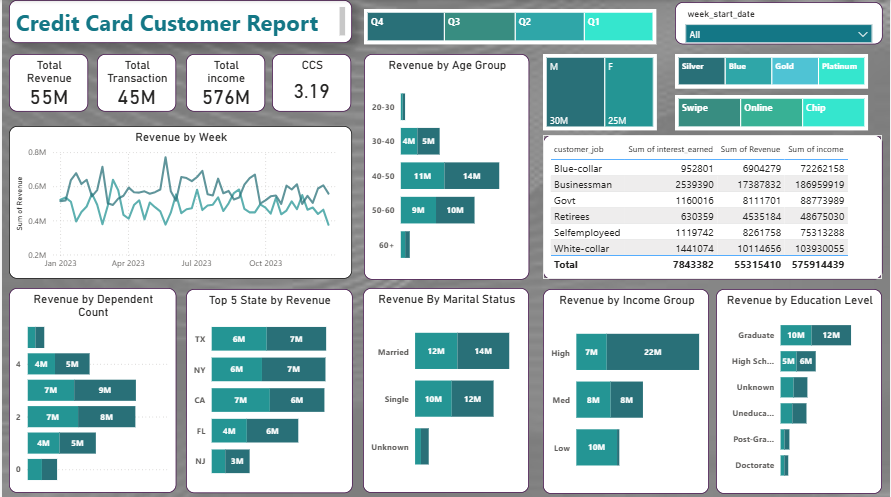

The dashboard page shown, as its layout file describes it:
{"tool":"powerbi","page":{"name":"CC_report","canvas":[1280,720],"ordinal":2},"visuals":[{"type":"textbox","box":[9.6,0,494.1,61.9],"z":0},{"type":"barChart","title":" Revenue by Dependent Count","fields":{"Y":["Sum(public credit_card_data2.Revenue)"],"Category":["public customers.dependent_count"],"Series":["public customers.gender"]},"box":[9.6,414.3,240.9,294.5],"z":1000},{"type":"tableEx","fields":{"Values":["public customers.customer_job","Sum(public credit_card_data2.interest_earned)","Sum(public credit_card_data2.Revenue)","Sum(public customers.income)"]},"box":[779,194.1,488.6,207.8],"z":2000},{"type":"card","title":"Total Revenue","fields":{"Values":["Sum(public credit_card_data2.Revenue)"]},"box":[9.6,77.1,114.2,82.6],"z":3000},{"type":"card","title":"Total Transaction","fields":{"Values":["Sum(public credit_card_data2.total_trans_amt)"]},"box":[136.3,77.1,114.2,82.6],"z":4000},{"type":"card","title":" Total income","fields":{"Values":["Sum(public customers.income)"]},"box":[264.3,77.1,114.2,82.6],"z":5000},{"type":"card","title":"CCS","fields":{"Values":["Avg(public customers.cust_satisfaction_score)"]},"box":[389.5,77.1,114.2,82.6],"z":6000},{"type":"slicer","fields":{"Values":["public credit_card_data2.week_start_date"]},"box":[968.9,2.8,298.7,60.6],"z":7000},{"type":"lineChart","title":" Revenue by Week","fields":{"Y":["Sum(public credit_card_data2.Revenue)"],"Series":["public customers.gender"],"Category":["public credit_card_data2.week_start_date.Variation.Date Hierarchy.Year","public credit_card_data2.week_start_date.Variation.Date Hierarchy.Month","public credit_card_data2.week_start_date.Variation.Date Hierarchy.Day"]},"box":[9.6,181.7,494.1,220.2],"z":8000},{"type":"treemap","fields":{"Group":["public customers.gender"],"Values":["Sum(public credit_card_data2.Revenue)"]},"box":[779,77.1,163.8,110.1],"z":9000},{"type":"barChart","title":" Revenue by Age Group","fields":{"Y":["Sum(public credit_card_data2.Revenue)"],"Category":["public customers.AgeGroup"],"Series":["public customers.gender"]},"box":[521.6,77.1,238.1,324.8],"z":10000},{"type":"barChart","title":" Revenue by Income Group","fields":{"Y":["Sum(public credit_card_data2.Revenue)"],"Category":["public customers.IncomeGroup"],"Series":["public customers.gender"]},"box":[779,415.7,239.5,294.5],"z":11000},{"type":"barChart","title":" Revenue by Education Level","fields":{"Y":["Sum(public credit_card_data2.Revenue)"],"Category":["public customers.education_level"],"Series":["public customers.gender"]},"box":[1028.1,415.7,239.5,294.5],"z":12000},{"type":"barChart","title":" Top 5 State by Revenue","fields":{"Y":["Sum(public credit_card_data2.Revenue)"],"Category":["public customers.state_cd"],"Series":["public customers.gender"]},"box":[264.3,415.7,240,294],"z":13000},{"type":"barChart","title":"  Revenue By Marital Status","fields":{"Y":["Sum(public credit_card_data2.Revenue)"],"Category":["public customers.marital_status"],"Series":["public customers.gender"]},"box":[520.3,414.3,239.5,294.5],"z":14000},{"type":"treemap","fields":{"Group":["public credit_card_data2.card_category"],"Values":["Avg(public credit_card_data2.client_num)"]},"box":[968.9,77.1,278,49.5],"z":15000},{"type":"treemap","fields":{"Group":["public credit_card_data2.qtr"],"Values":["Avg(public credit_card_data2.client_num)"]},"box":[521.6,12.4,421.2,50.9],"z":16000},{"type":"treemap","fields":{"Group":["public credit_card_data2.use_chip"],"Values":["Avg(public credit_card_data2.client_num)"]},"box":[968.9,136.3,278,50.9],"z":17000}]}

Visuals, with their boxes in screenshot pixels (x1, y1, x2, y2), scaled from the page's 1280x720 canvas onto the 891x497 screenshot:
textbox: [left=7, top=0, right=351, bottom=43]
" Revenue by Dependent Count" barChart: [left=7, top=286, right=174, bottom=489]
tableEx - public customers.customer_job x Sum(public credit_card_data2.interest_earned): [left=542, top=134, right=882, bottom=277]
"Total Revenue" card: [left=7, top=53, right=86, bottom=110]
"Total Transaction" card: [left=95, top=53, right=174, bottom=110]
" Total income" card: [left=184, top=53, right=263, bottom=110]
"CCS" card: [left=271, top=53, right=351, bottom=110]
slicer - public credit_card_data2.week_start_date: [left=674, top=2, right=882, bottom=44]
" Revenue by Week" lineChart: [left=7, top=125, right=351, bottom=277]
treemap - public customers.gender x Sum(public credit_card_data2.Revenue): [left=542, top=53, right=656, bottom=129]
" Revenue by Age Group" barChart: [left=363, top=53, right=529, bottom=277]
" Revenue by Income Group" barChart: [left=542, top=287, right=709, bottom=490]
" Revenue by Education Level" barChart: [left=716, top=287, right=882, bottom=490]
" Top 5 State by Revenue" barChart: [left=184, top=287, right=351, bottom=490]
"  Revenue By Marital Status" barChart: [left=362, top=286, right=529, bottom=489]
treemap - public credit_card_data2.card_category x Avg(public credit_card_data2.client_num): [left=674, top=53, right=868, bottom=87]
treemap - public credit_card_data2.qtr x Avg(public credit_card_data2.client_num): [left=363, top=9, right=656, bottom=44]
treemap - public credit_card_data2.use_chip x Avg(public credit_card_data2.client_num): [left=674, top=94, right=868, bottom=129]
